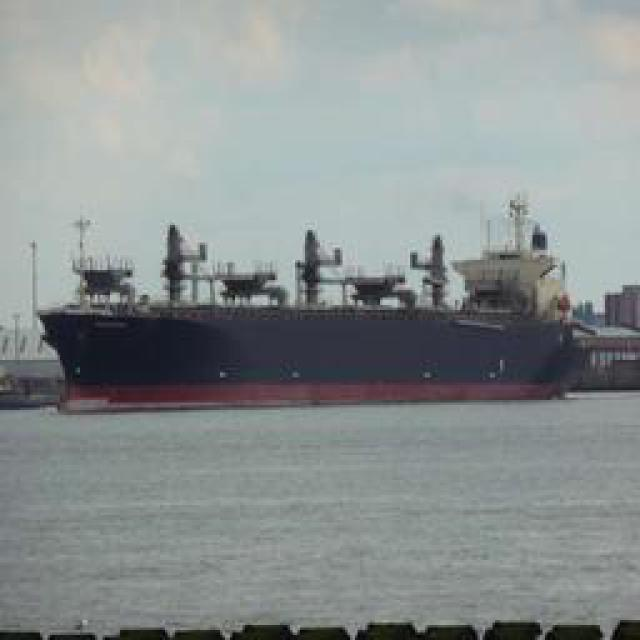Ship: (33, 193, 598, 401)
